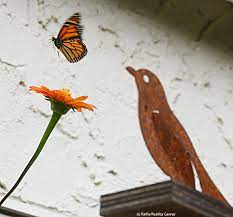kelebek: (46, 11, 93, 65)
